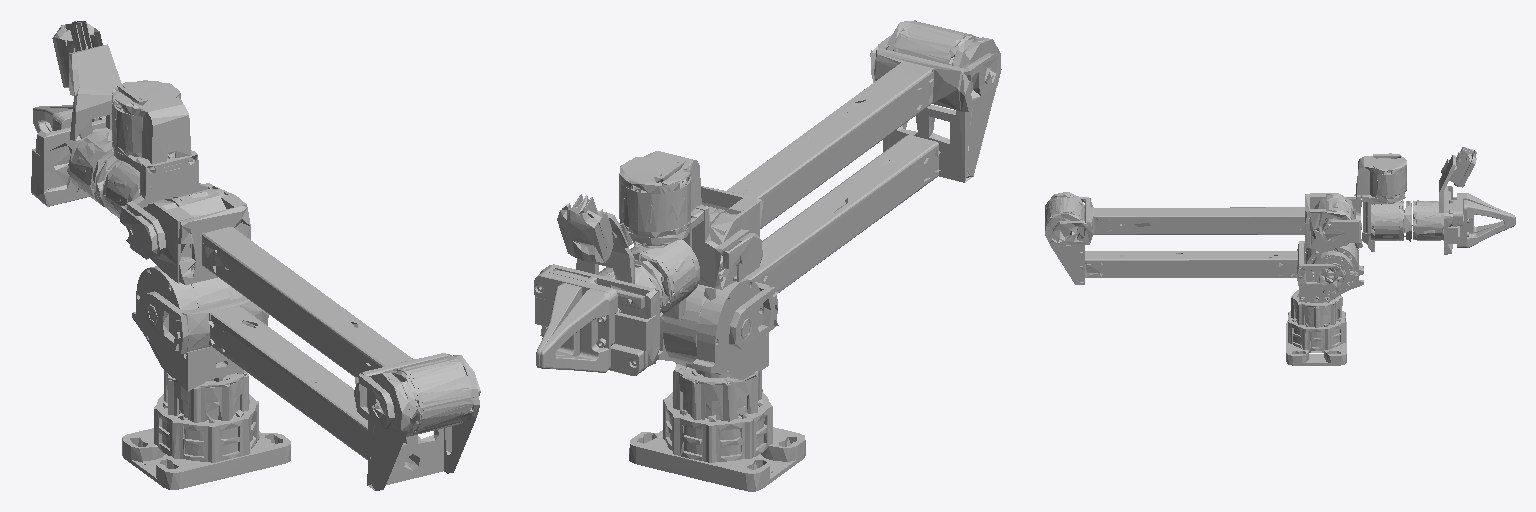
robot.urdf — big-yam-urdf:
<?xml version="1.0" encoding="utf-8"?>
<!-- This URDF was automatically created by SolidWorks to URDF Exporter! Originally created by [author] ([email redacted])
     Commit Version: 1.6.0-4-g7f85cfe  Build Version: 1.6.7995.38578
     For more information, please see http://wiki.ros.org/sw_urdf_exporter -->
<robot
  name="big-yam-urdf">
  <link
    name="joint1">
    <inertial>
      <origin
        xyz="-5.22569828514952E-06 -2.45550170611792E-05 0.0359385899995561"
        rpy="0 0 0" />
      <mass
        value="1.11522607076613" />
      <inertia
        ixx="0.000667469471933364"
        ixy="9.52607486042287E-08"
        ixz="-1.04082825487826E-08"
        iyy="0.000762865983512096"
        iyz="4.91531164566736E-08"
        izz="0.00111043033603152" />
    </inertial>
    <visual>
      <origin
        xyz="0 0 0"
        rpy="0 0 0" />
      <geometry>
        <mesh
          filename="package://big-yam-urdf/meshes/joint1.STL" />
      </geometry>
      <material
        name="">
        <color
          rgba="0.752941176470588 0.752941176470588 0.752941176470588 1" />
      </material>
    </visual>
    <collision>
      <origin
        xyz="0 0 0"
        rpy="0 0 0" />
      <geometry>
        <mesh
          filename="package://big-yam-urdf/meshes/joint1.STL" />
      </geometry>
    </collision>
  </link>
  <link
    name="joint2_link">
    <inertial>
      <origin
        xyz="0.00262043338906797 0.0186980983426543 0.0476978837259382"
        rpy="0 0 0" />
      <mass
        value="0.844868994266236" />
      <inertia
        ixx="0.000574229559206357"
        ixy="6.687302766436E-07"
        ixz="1.71289497113844E-06"
        iyy="0.000405490061162557"
        iyz="-1.51031697915455E-05"
        izz="0.000418989942573212" />
    </inertial>
    <visual>
      <origin
        xyz="0 0 0"
        rpy="0 0 0" />
      <geometry>
        <mesh
          filename="package://big-yam-urdf/meshes/joint2_link.STL" />
      </geometry>
      <material
        name="">
        <color
          rgba="0.752941176470588 0.752941176470588 0.752941176470588 1" />
      </material>
    </visual>
    <collision>
      <origin
        xyz="0 0 0"
        rpy="0 0 0" />
      <geometry>
        <mesh
          filename="package://big-yam-urdf/meshes/joint2_link.STL" />
      </geometry>
    </collision>
  </link>
  <joint
    name="joint2"
    type="continuous">
    <origin
      xyz="0 0 0.07735"
      rpy="0 0 0" />
    <parent
      link="joint1" />
    <child
      link="joint2_link" />
    <axis
      xyz="0 0 1" />
  </joint>
  <link
    name="joint3_link">
    <inertial>
      <origin
        xyz="0.00386211891002865 -0.276880218490815 0.0327451460179446"
        rpy="0 0 0" />
      <mass
        value="0.876760377259626" />
      <inertia
        ixx="0.00182973110492121"
        ixy="-2.22037247440314E-07"
        ixz="1.02377042693291E-06"
        iyy="0.000341528937917236"
        iyz="1.72504783021114E-05"
        izz="0.00177944858739725" />
    </inertial>
    <visual>
      <origin
        xyz="0 0 0"
        rpy="0 0 0" />
      <geometry>
        <mesh
          filename="package://big-yam-urdf/meshes/joint3_link.STL" />
      </geometry>
      <material
        name="">
        <color
          rgba="0.752941176470588 0.752941176470588 0.752941176470588 1" />
      </material>
    </visual>
    <collision>
      <origin
        xyz="0 0 0"
        rpy="0 0 0" />
      <geometry>
        <mesh
          filename="package://big-yam-urdf/meshes/joint3_link.STL" />
      </geometry>
    </collision>
  </link>
  <joint
    name="joint3"
    type="continuous">
    <origin
      xyz="0 0.021912 0.053202"
      rpy="0 0 0" />
    <parent
      link="joint2_link" />
    <child
      link="joint3_link" />
    <axis
      xyz="-1 0 0" />
  </joint>
  <link
    name="joint4_link">
    <inertial>
      <origin
        xyz="0.00320446596606837 0.266870013019176 -5.98854656161385E-06"
        rpy="0 0 0" />
      <mass
        value="0.849151876249635" />
      <inertia
        ixx="0.00176360215533057"
        ixy="-8.10886621226483E-06"
        ixz="-5.36882598798644E-07"
        iyy="0.000252454168016015"
        iyz="-1.04465141630879E-07"
        izz="0.00172838820340551" />
    </inertial>
    <visual>
      <origin
        xyz="0 0 0"
        rpy="0 0 0" />
      <geometry>
        <mesh
          filename="package://big-yam-urdf/meshes/joint4_link.STL" />
      </geometry>
      <material
        name="">
        <color
          rgba="0.752941176470588 0.752941176470588 0.752941176470588 1" />
      </material>
    </visual>
    <collision>
      <origin
        xyz="0 0 0"
        rpy="0 0 0" />
      <geometry>
        <mesh
          filename="package://big-yam-urdf/meshes/joint4_link.STL" />
      </geometry>
    </collision>
  </link>
  <joint
    name="joint4"
    type="continuous">
    <origin
      xyz="0 -0.3787 0.068"
      rpy="0 0 0" />
    <parent
      link="joint3_link" />
    <child
      link="joint4_link" />
    <axis
      xyz="1 0 0" />
  </joint>
  <link
    name="joint5_link">
    <inertial>
      <origin
        xyz="-0.000204601113324043 0.0595322868510172 0.05003746628125"
        rpy="0 0 0" />
      <mass
        value="0.465659196167811" />
      <inertia
        ixx="0.000138473595152471"
        ixy="1.60805041082319E-05"
        ixz="8.34364033741271E-06"
        iyy="0.000153861289007756"
        iyz="-7.71316488732989E-06"
        izz="0.000218378578542221" />
    </inertial>
    <visual>
      <origin
        xyz="0 0 0"
        rpy="0 0 0" />
      <geometry>
        <mesh
          filename="package://big-yam-urdf/meshes/joint5_link.STL" />
      </geometry>
      <material
        name="">
        <color
          rgba="0.752941176470588 0.752941176470588 0.752941176470588 1" />
      </material>
    </visual>
    <collision>
      <origin
        xyz="0 0 0"
        rpy="0 0 0" />
      <geometry>
        <mesh
          filename="package://big-yam-urdf/meshes/joint5_link.STL" />
      </geometry>
    </collision>
  </link>
  <joint
    name="joint5"
    type="continuous">
    <origin
      xyz="0 0.38198 0"
      rpy="0 0 0" />
    <parent
      link="joint4_link" />
    <child
      link="joint5_link" />
    <axis
      xyz="1 0 0" />
  </joint>
  <link
    name="joint6_link">
    <inertial>
      <origin
        xyz="-4.72877410073527E-05 -0.00118651651199964 -0.0426116473710965"
        rpy="0 0 0" />
      <mass
        value="0.382514131559949" />
      <inertia
        ixx="9.53410733357355E-05"
        ixy="2.12169660328111E-08"
        ixz="-1.53399891346684E-07"
        iyy="0.000148319829064392"
        iyz="-7.60926685330668E-06"
        izz="8.44912288452243E-05" />
    </inertial>
    <visual>
      <origin
        xyz="0 0 0"
        rpy="0 0 0" />
      <geometry>
        <mesh
          filename="package://big-yam-urdf/meshes/joint6_link.STL" />
      </geometry>
      <material
        name="">
        <color
          rgba="0.752941176470588 0.752941176470588 0.752941176470588 1" />
      </material>
    </visual>
    <collision>
      <origin
        xyz="0 0 0"
        rpy="0 0 0" />
      <geometry>
        <mesh
          filename="package://big-yam-urdf/meshes/joint6_link.STL" />
      </geometry>
    </collision>
  </link>
  <joint
    name="joint6"
    type="continuous">
    <origin
      xyz="0 0.074 0.0455"
      rpy="0 0 0" />
    <parent
      link="joint5_link" />
    <child
      link="joint6_link" />
    <axis
      xyz="0 0 1" />
  </joint>
  <link
    name="gripper_link">
    <inertial>
      <origin
        xyz="0.000137377952859563 0.0463252896953799 0.00816867396138829"
        rpy="0 0 0" />
      <mass
        value="0.567146742379966" />
      <inertia
        ixx="0.000124193341856474"
        ixy="3.10707897410255E-07"
        ixz="-5.09504046870712E-07"
        iyy="0.000304883159155605"
        iyz="-4.31534543337648E-06"
        izz="0.000203057120372928" />
    </inertial>
    <visual>
      <origin
        xyz="0 0 0"
        rpy="0 0 0" />
      <geometry>
        <mesh
          filename="package://big-yam-urdf/meshes/gripper_link.STL" />
      </geometry>
      <material
        name="">
        <color
          rgba="0.752941176470588 0.752941176470588 0.752941176470588 1" />
      </material>
    </visual>
    <collision>
      <origin
        xyz="0 0 0"
        rpy="0 0 0" />
      <geometry>
        <mesh
          filename="package://big-yam-urdf/meshes/gripper_link.STL" />
      </geometry>
    </collision>
  </link>
  <joint
    name="gripper"
    type="continuous">
    <origin
      xyz="0 0.0235 -0.0455"
      rpy="0 0 0" />
    <parent
      link="joint6_link" />
    <child
      link="gripper_link" />
    <axis
      xyz="0 -1 0" />
  </joint>
  <link
    name="finger-l-link">
    <inertial>
      <origin
        xyz="0.00424574929303179 0.0290459612948318 0.011461626585402"
        rpy="0 0 0" />
      <mass
        value="0.09306490345146" />
      <inertia
        ixx="3.21228406976354E-05"
        ixy="-1.99309428904582E-06"
        ixz="-2.62864129368954E-06"
        iyy="3.64522264255474E-05"
        iyz="3.76626080905027E-07"
        izz="3.14226051265662E-05" />
    </inertial>
    <visual>
      <origin
        xyz="0 0 0"
        rpy="0 0 0" />
      <geometry>
        <mesh
          filename="package://big-yam-urdf/meshes/finger-l-link.STL" />
      </geometry>
      <material
        name="">
        <color
          rgba="0.752941176470588 0.752941176470588 0.752941176470588 1" />
      </material>
    </visual>
    <collision>
      <origin
        xyz="0 0 0"
        rpy="0 0 0" />
      <geometry>
        <mesh
          filename="package://big-yam-urdf/meshes/finger-l-link.STL" />
      </geometry>
    </collision>
  </link>
  <joint
    name="finger-l"
    type="prismatic">
    <origin
      xyz="0 0.0591 0"
      rpy="0 0 0" />
    <parent
      link="gripper_link" />
    <child
      link="finger-l-link" />
    <axis
      xyz="-1 0 0" />
    <limit
      lower="0"
      upper="0"
      effort="0"
      velocity="0" />
  </joint>
  <link
    name="finger-r-link">
    <inertial>
      <origin
        xyz="-0.00424574921108675 0.0290459613088252 -0.0114616265668524"
        rpy="0 0 0" />
      <mass
        value="0.0930649039797078" />
      <inertia
        ixx="3.21228408554017E-05"
        ixy="1.99309429013729E-06"
        ixz="-2.62864129254617E-06"
        iyy="3.64522264592339E-05"
        iyz="-3.76626144781567E-07"
        izz="3.14226052509976E-05" />
    </inertial>
    <visual>
      <origin
        xyz="0 0 0"
        rpy="0 0 0" />
      <geometry>
        <mesh
          filename="package://big-yam-urdf/meshes/finger-r-link.STL" />
      </geometry>
      <material
        name="">
        <color
          rgba="0.752941176470588 0.752941176470588 0.752941176470588 1" />
      </material>
    </visual>
    <collision>
      <origin
        xyz="0 0 0"
        rpy="0 0 0" />
      <geometry>
        <mesh
          filename="package://big-yam-urdf/meshes/finger-r-link.STL" />
      </geometry>
    </collision>
  </link>
  <joint
    name="finger-r"
    type="prismatic">
    <origin
      xyz="0 0.0591 0"
      rpy="0 0 0" />
    <parent
      link="gripper_link" />
    <child
      link="finger-r-link" />
    <axis
      xyz="1 0 0" />
    <limit
      lower="0"
      upper="0"
      effort="0"
      velocity="0" />
  </joint>
</robot>

--- What the picture shows (computed from the rendered views, not written in the file) ---
The picture shows the robot from 3 angles, left to right: view 1: azimuth 30°, elevation 25°; view 2: azimuth 150°, elevation 25°; view 3: azimuth 270°, elevation 25°; orthographic projection.
Model big-yam-urdf with 9 links and 8 joints (6 continuous, 2 prismatic), rooted at joint1, posed all joints at 0.
Visible links, largest first — view 1: joint3_link, joint4_link, joint1, gripper_link, joint5_link, joint2_link, joint6_link, finger-l-link; view 2: joint3_link, joint4_link, joint1, joint5_link, gripper_link, joint2_link, finger-l-link, joint6_link, finger-r-link; view 3: joint3_link, joint4_link, joint1, joint5_link, gripper_link, joint2_link, joint6_link, finger-r-link, finger-l-link.
Boxes of the visible links, x1,y1,x2,y2 form: joint3_link: (142, 291, 479, 490); joint4_link: (143, 186, 480, 428); joint1: (122, 370, 290, 489); gripper_link: (32, 21, 121, 207); joint5_link: (111, 80, 212, 259); joint2_link: (132, 266, 244, 391); joint6_link: (101, 160, 141, 218); finger-l-link: (33, 107, 105, 132); joint3_link: (729, 20, 1000, 350); joint4_link: (701, 35, 1001, 283); joint1: (629, 363, 805, 491); joint5_link: (619, 151, 761, 300); gripper_link: (535, 194, 668, 366); joint2_link: (657, 279, 768, 379); finger-l-link: (534, 267, 617, 372); joint6_link: (630, 230, 699, 320); finger-r-link: (536, 283, 647, 375); joint3_link: (1045, 192, 1344, 287); joint4_link: (1052, 193, 1354, 248); joint1: (1286, 290, 1346, 365); joint5_link: (1322, 153, 1406, 248); gripper_link: (1404, 147, 1476, 254); joint2_link: (1299, 243, 1363, 302); joint6_link: (1362, 200, 1405, 251); finger-r-link: (1457, 200, 1515, 247); finger-l-link: (1449, 193, 1515, 232).
Size in the robot's own frame: 0.12 by 0.6674 by 0.3125 metres.
9 mesh visuals loaded from 9 distinct referenced files (9 binary STL).